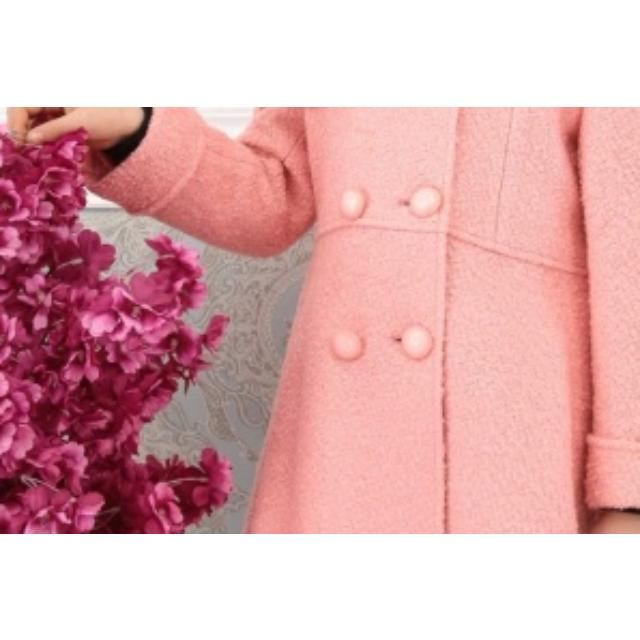wool: (242, 106, 640, 534)
